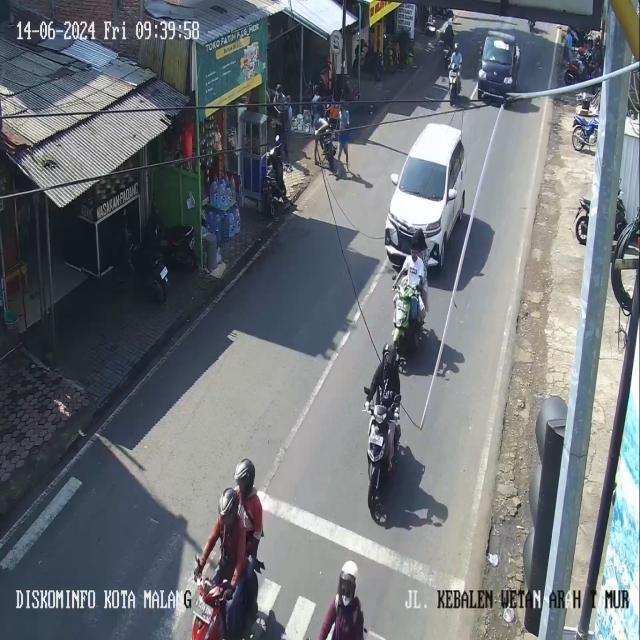Helmet: (338, 560, 357, 605), (234, 458, 254, 495), (218, 488, 238, 520), (411, 229, 425, 251), (382, 343, 397, 363), (454, 42, 458, 49)
Number Plate: (194, 596, 212, 623), (369, 434, 383, 445), (160, 267, 167, 278)
Rearview Mirror: (447, 188, 456, 200), (390, 173, 398, 184), (364, 386, 369, 394), (275, 135, 279, 144)
